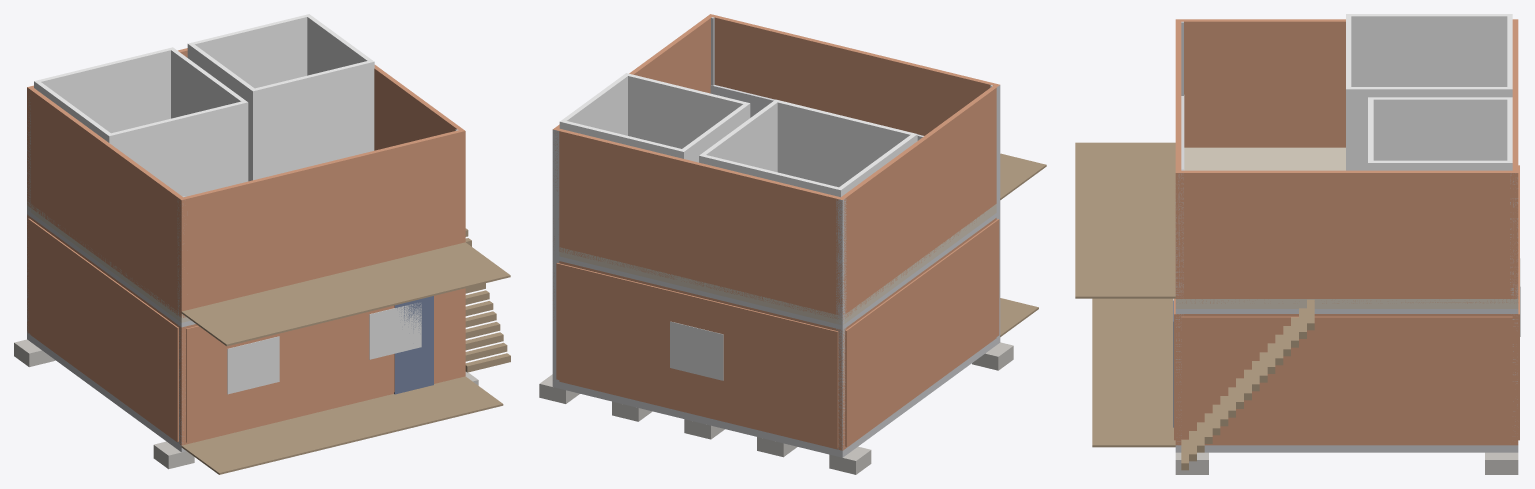
Rendered from Duplex-20-Base-Terracotta-LOD1.glb.
3 views of the same model, side by side, from view 1: azimuth 30°, elevation 25°; view 2: azimuth 150°, elevation 25°; view 3: azimuth 270°, elevation 25° (orthographic). The views are drawn at different scales.
Parts seen in each view (by area): view 1: ExteriorShellUpper, ExteriorPanelsStandard, StudyUpper, BedroomUpper, BalconyUpper, BalconyGround, WindowsStandard, StaircaseExternal, EntryDoor, ExteriorShell, FoundationBlocks, BaseFrame (+3 smaller); view 2: ExteriorShellUpper, ExteriorPanelsStandard, BedroomUpper, StudyUpper, VerticalStructure, FloorUpper, FoundationBlocks, BaseFrame, ExteriorShell, WindowsStandard, TopFrame, BalconyUpper (+2 smaller); view 3: ExteriorShellUpper, ExteriorPanelsStandard, BalconyUpper, BedroomUpper, BalconyGround, StudyUpper, FloorUpper, StaircaseExternal, ExteriorShell, BaseFrame, TopFrame, FoundationBlocks (+1 smaller).
Part boxes in pixels (x1=…): ExteriorShellUpper: x1=27, y1=48, x2=465, y2=317; ExteriorPanelsStandard: x1=28, y1=218, x2=461, y2=442; StudyUpper: x1=187, y1=14, x2=374, y2=181; BedroomUpper: x1=34, y1=47, x2=248, y2=196; BalconyUpper: x1=181, y1=242, x2=510, y2=346; BalconyGround: x1=181, y1=376, x2=503, y2=474; WindowsStandard: x1=227, y1=303, x2=421, y2=394; StaircaseExternal: x1=465, y1=228, x2=510, y2=372; EntryDoor: x1=394, y1=296, x2=433, y2=394; ExteriorShell: x1=27, y1=214, x2=465, y2=445; FoundationBlocks: x1=14, y1=339, x2=478, y2=469; BaseFrame: x1=27, y1=333, x2=186, y2=452; ExteriorShellUpper: x1=553, y1=14, x2=999, y2=320; ExteriorPanelsStandard: x1=556, y1=219, x2=999, y2=447; BedroomUpper: x1=699, y1=99, x2=917, y2=197; StudyUpper: x1=559, y1=73, x2=750, y2=162; VerticalStructure: x1=552, y1=17, x2=1000, y2=449; FloorUpper: x1=553, y1=204, x2=996, y2=325; FoundationBlocks: x1=539, y1=342, x2=1013, y2=474; BaseFrame: x1=552, y1=336, x2=1000, y2=457; ExteriorShell: x1=553, y1=218, x2=996, y2=450; WindowsStandard: x1=670, y1=321, x2=723, y2=380; TopFrame: x1=559, y1=213, x2=996, y2=329; BalconyUpper: x1=1000, y1=153, x2=1046, y2=199; ExteriorShellUpper: x1=1175, y1=19, x2=1518, y2=303; ExteriorPanelsStandard: x1=1174, y1=165, x2=1519, y2=443; BalconyUpper: x1=1075, y1=142, x2=1175, y2=298; BedroomUpper: x1=1346, y1=14, x2=1512, y2=170; BalconyGround: x1=1092, y1=298, x2=1175, y2=447; StudyUpper: x1=1368, y1=97, x2=1512, y2=170; FloorUpper: x1=1175, y1=147, x2=1518, y2=308; StaircaseExternal: x1=1181, y1=299, x2=1314, y2=470; ExteriorShell: x1=1175, y1=314, x2=1518, y2=445; BaseFrame: x1=1175, y1=445, x2=1518, y2=452; TopFrame: x1=1175, y1=309, x2=1518, y2=313; FoundationBlocks: x1=1175, y1=452, x2=1518, y2=474.
Size of the model in its own units: 7.94 by 6 by 8.
